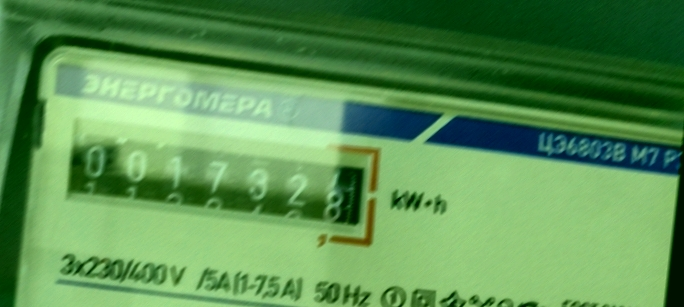0: (83, 142, 109, 181), (125, 148, 149, 184)
1: (167, 153, 186, 190)
2: (285, 171, 309, 209)
3: (245, 166, 272, 203)
7: (203, 157, 231, 197)
8: (321, 187, 345, 224)
screen: (55, 114, 386, 250)
